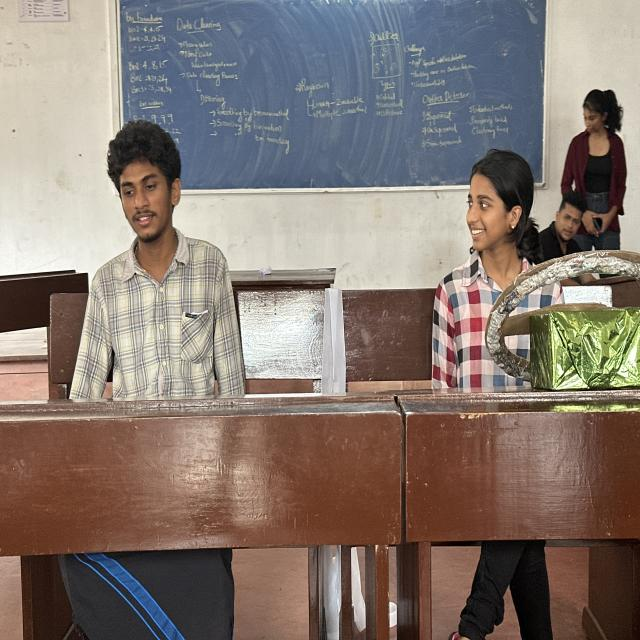Helmet: (62, 225, 257, 432), (410, 215, 581, 444)
